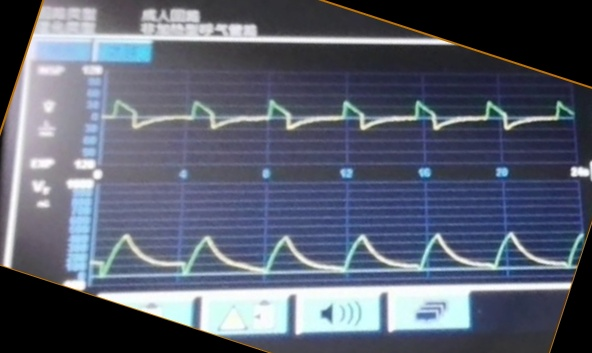Flow: (105, 78, 571, 159)
Leakage Volume: (94, 210, 568, 280)
